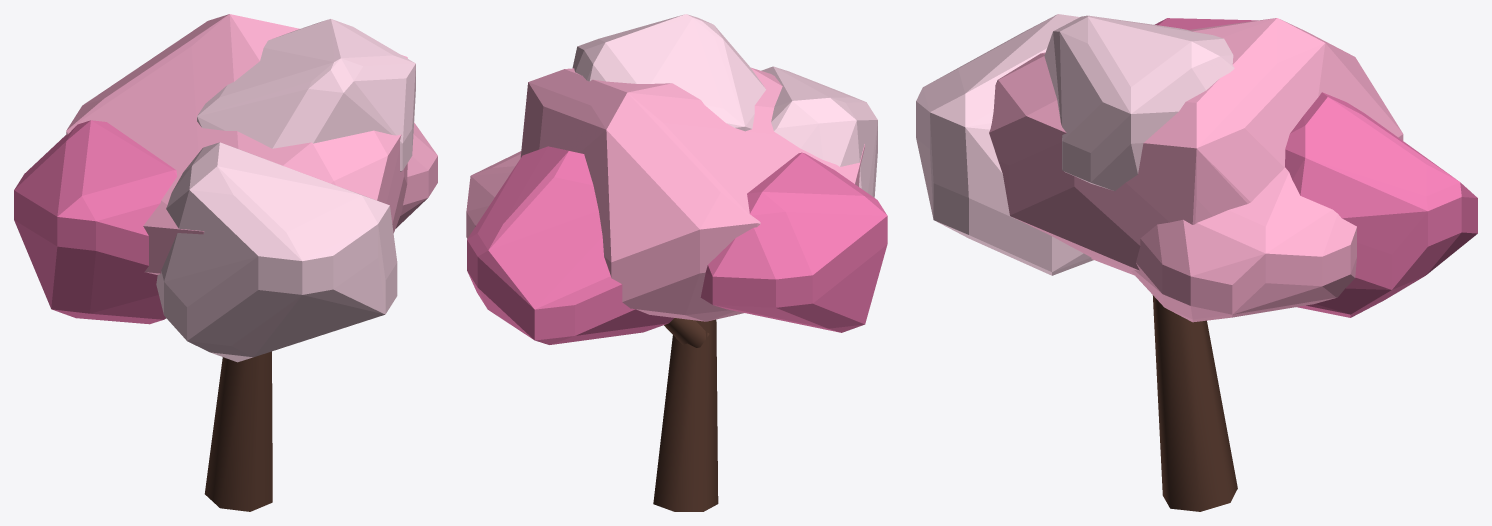
File: cherry.glb
The picture shows the model from 3 angles, left to right: view 1: azimuth 30°, elevation 25°; view 2: azimuth 150°, elevation 25°; view 3: azimuth 270°, elevation 25°; orthographic projection. The views are drawn at different scales.
Parts seen in each view (by area): view 1: BlossomLight_FFD9EA, Blossom_FFB0D2, BlossomDark_F27BB4, Bark_5A3A2E; view 2: BlossomDark_F27BB4, Blossom_FFB0D2, BlossomLight_FFD9EA, Bark_5A3A2E; view 3: Blossom_FFB0D2, BlossomLight_FFD9EA, BlossomDark_F27BB4, Bark_5A3A2E.
Boxes of the visible parts, x1,y1,x2,y2 form: BlossomLight_FFD9EA: (156,19,415,362); Blossom_FFB0D2: (66,14,437,274); BlossomDark_F27BB4: (14,120,177,324); Bark_5A3A2E: (204,351,272,511); BlossomDark_F27BB4: (467,146,887,344); Blossom_FFB0D2: (466,67,864,321); BlossomLight_FFD9EA: (572,14,877,197); Bark_5A3A2E: (653,318,718,511); Blossom_FFB0D2: (989,18,1403,322); BlossomLight_FFD9EA: (916,14,1234,275); BlossomDark_F27BB4: (1155,18,1477,317); Bark_5A3A2E: (1152,295,1237,511).
Size of the model in its own units: 17.7 by 19.67 by 19.68.
